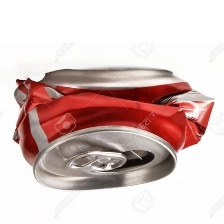can: (6, 60, 219, 196)
